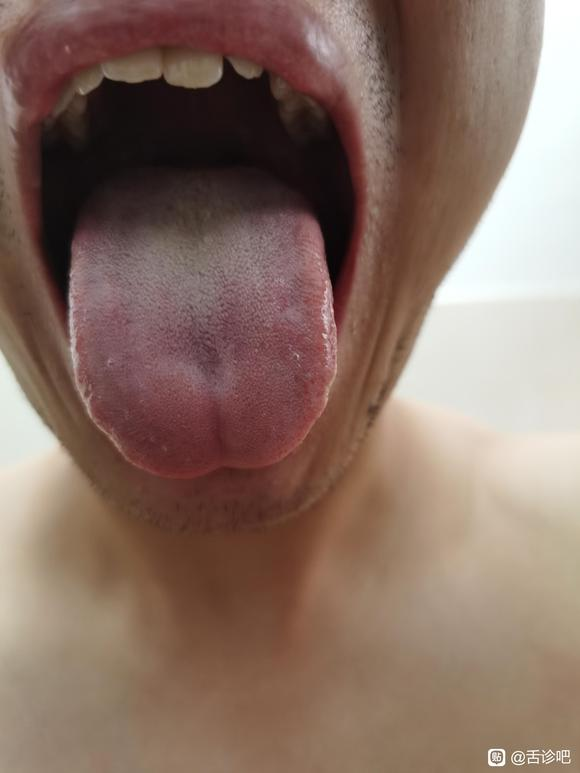baitaishe: (68, 169, 339, 480)
chihenshe: (67, 338, 123, 449)
piweiao: (157, 318, 250, 399)
xinfeiao: (169, 439, 266, 479)
